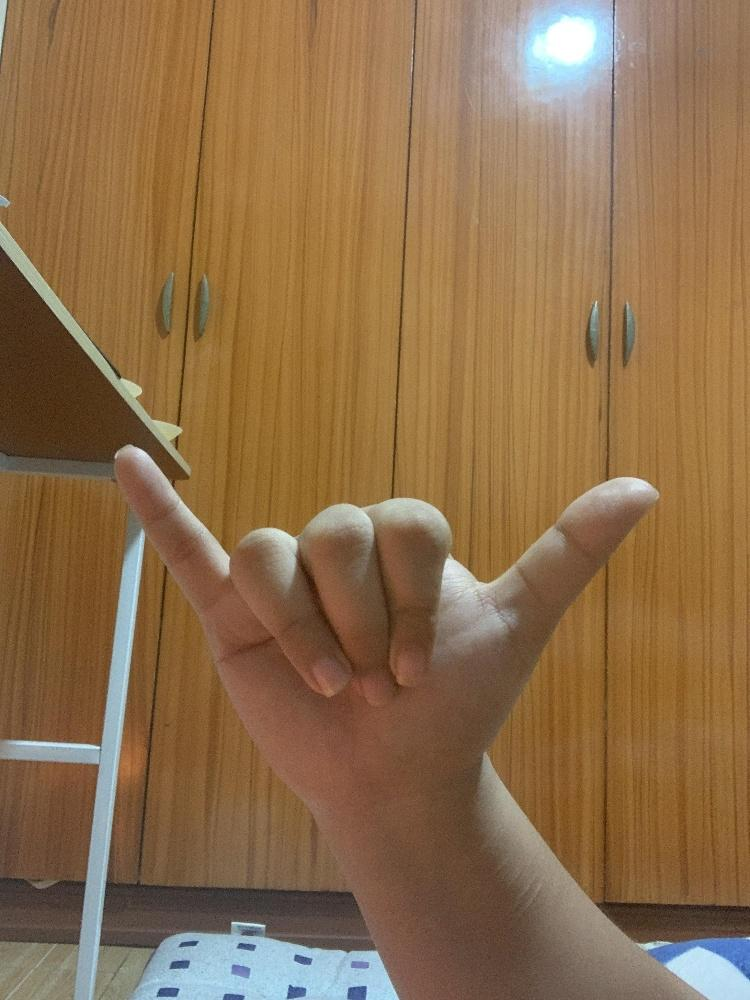y: (111, 439, 661, 808)
